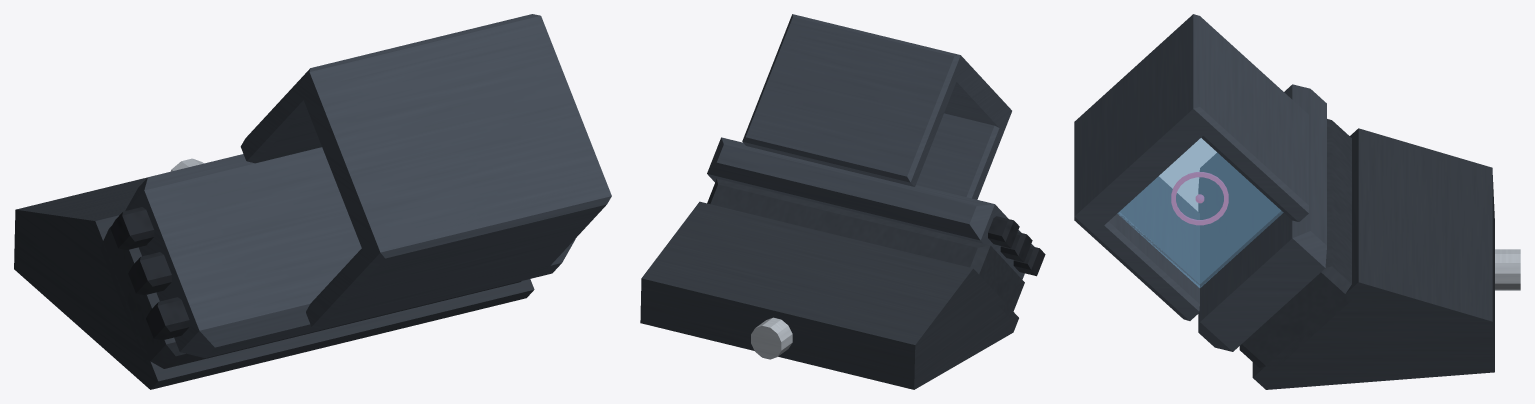
The model's file is sight_holo_canted_v2.glb.
The picture shows the model from 3 angles, left to right: view 1: azimuth 30°, elevation 25°; view 2: azimuth 150°, elevation 25°; view 3: azimuth 270°, elevation 25°; orthographic projection. The views are drawn at different scales.
Visible parts, largest first — view 1: sight_holo_canted_mesh; view 2: sight_holo_canted_mesh; view 3: sight_holo_canted_mesh.
Part boxes in pixels (box(x1,y1,x2,y2)): sight_holo_canted_mesh: box(14, 14, 611, 389); sight_holo_canted_mesh: box(640, 14, 1045, 389); sight_holo_canted_mesh: box(1074, 14, 1520, 389).
Size of the model in its own units: 0.083 by 0.0636 by 0.0955.
Materials: 7 (5 with a texture image).
